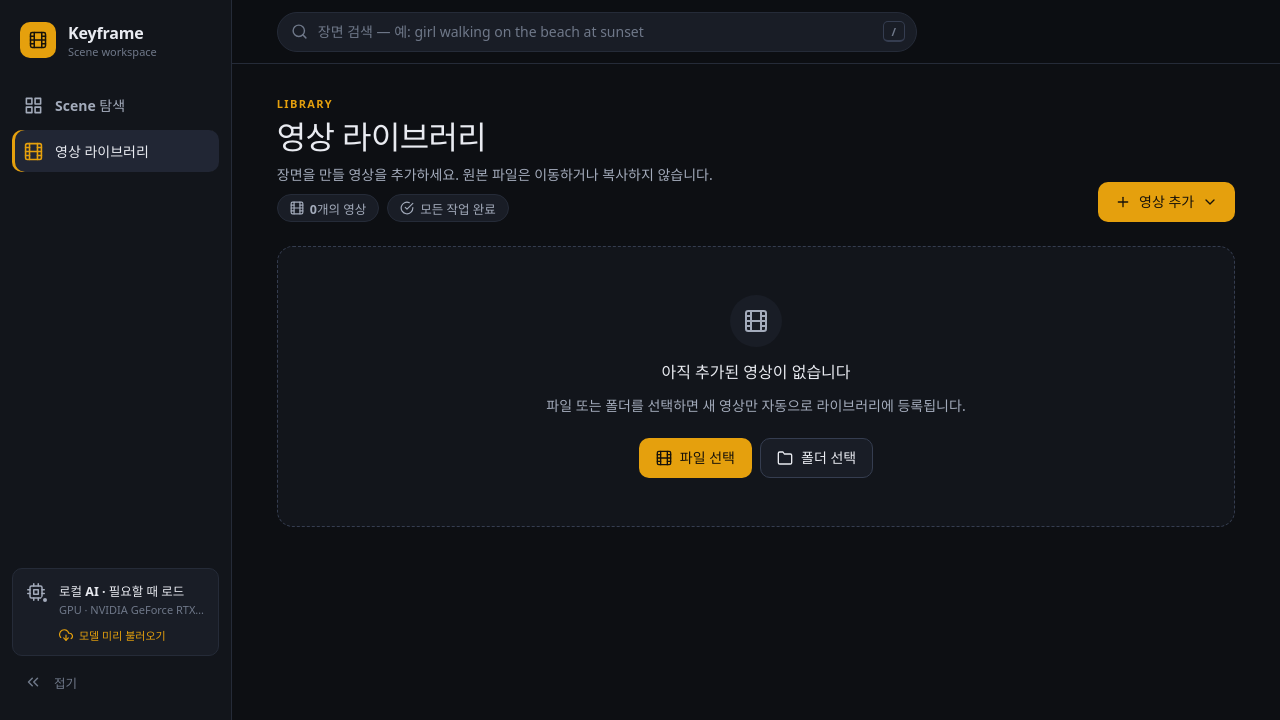
영상 라이브러리 › starts folder import from the empty state and reports cancellation
The width and height of the screenshot is (1280, 720).
Click the button "폴더 선택": (817,458) top-left (760, 438), bottom-right (873, 478)
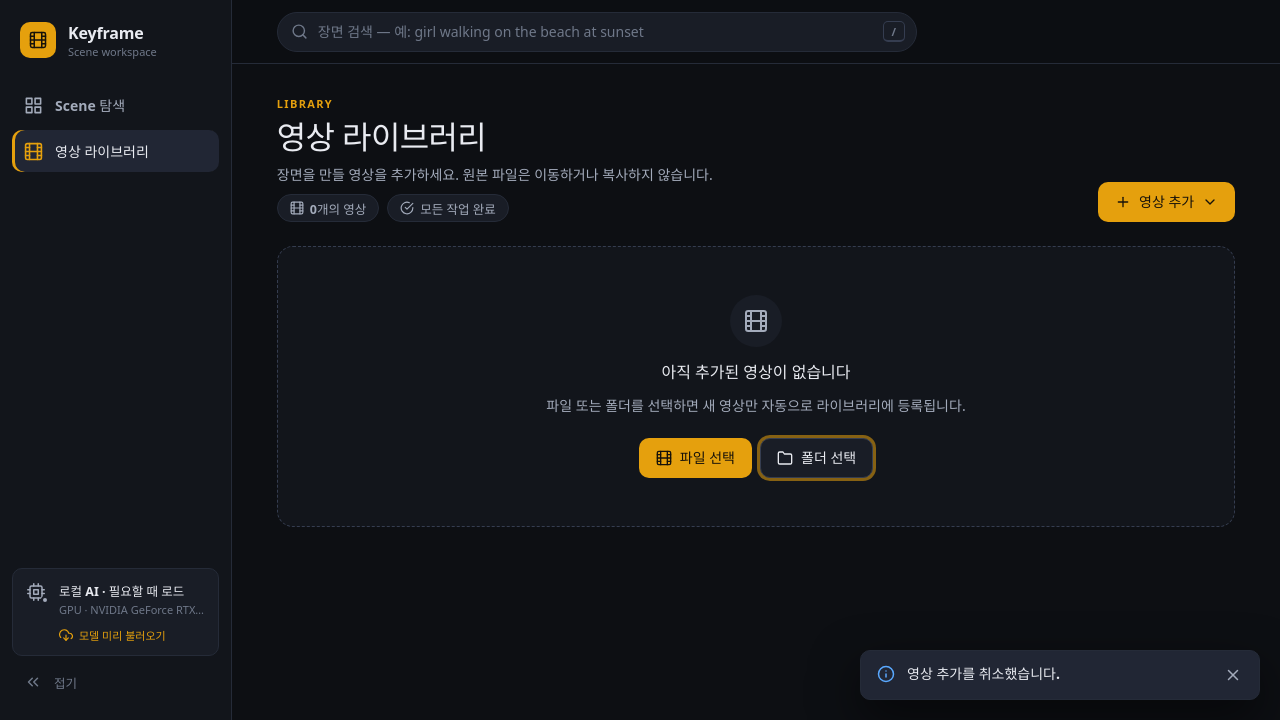
Expected: the text "영상 추가를 취소했습니다." is shown, top-left (907, 664), bottom-right (1060, 683)
